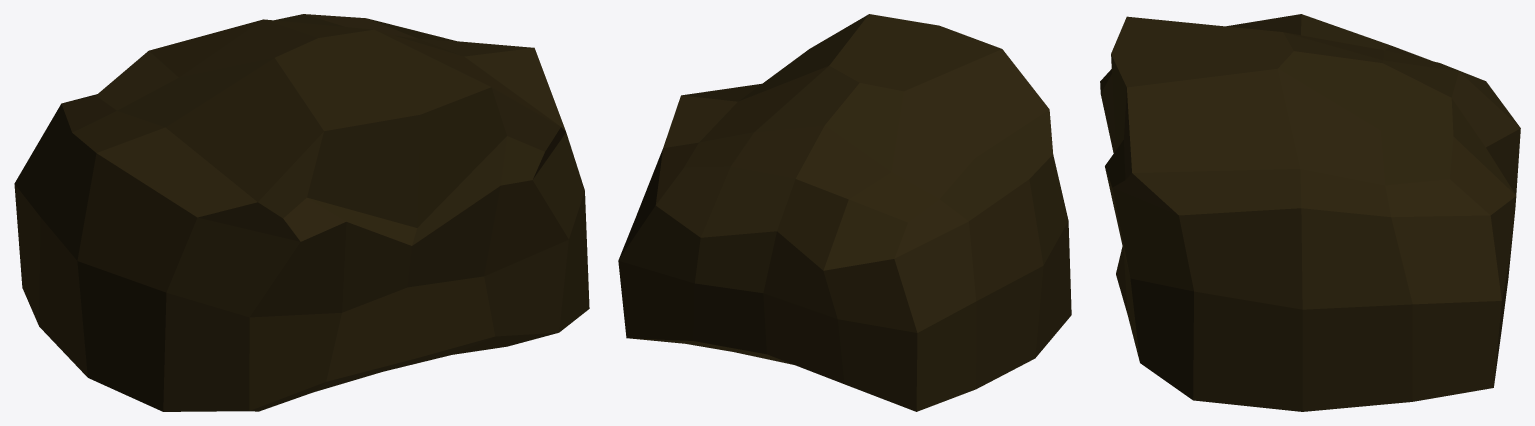
File: TrueRock.fbx
The picture shows the model from 3 angles, left to right: view 1: azimuth 30°, elevation 25°; view 2: azimuth 150°, elevation 25°; view 3: azimuth 270°, elevation 25°; orthographic projection. The views are drawn at different scales.
Parts seen in each view (by area): view 1: Cube; view 2: Cube; view 3: Cube.
Part boxes in pixels (x1,y1,x2,y2): Cube: (14,14,589,411); Cube: (618,14,1071,411); Cube: (1100,14,1520,411).
Size of the model in its own units: 200 by 128 by 169.
